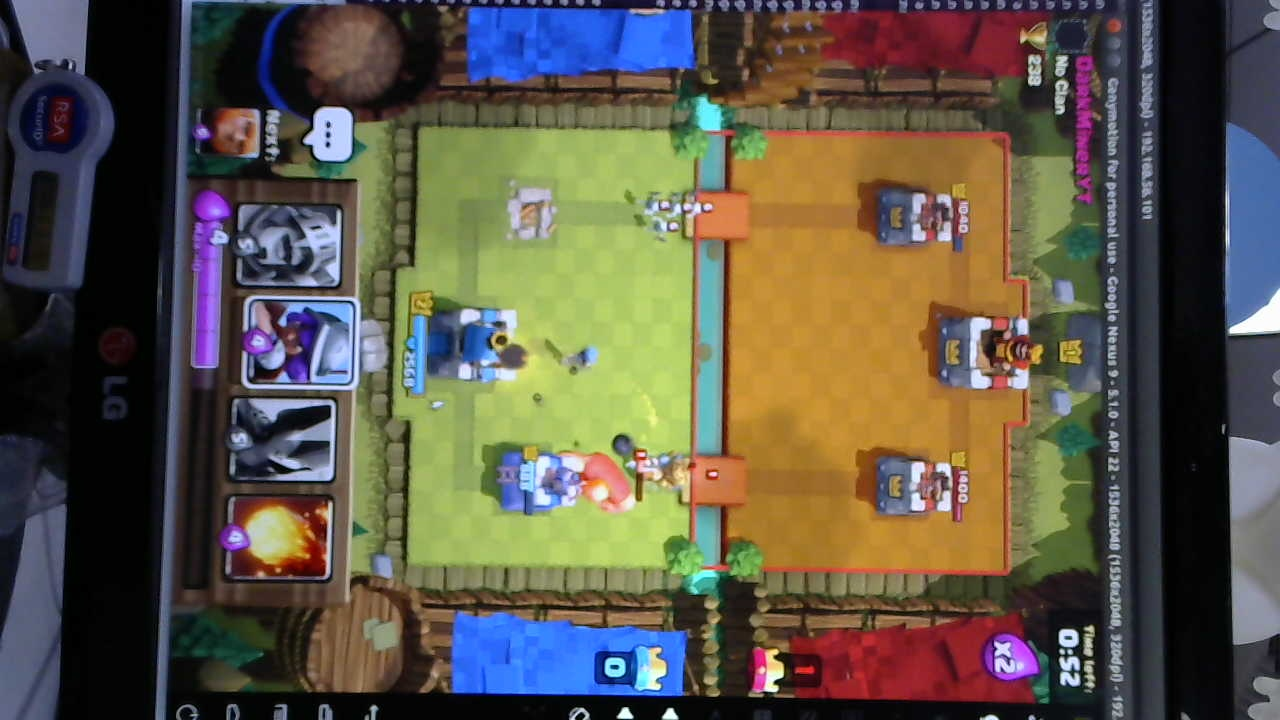arena: (492, 448, 572, 515)
bomb: (561, 339, 600, 378)
darena: (500, 181, 556, 243)
earena: (871, 454, 952, 521), (869, 187, 952, 251)
eking: (939, 318, 1036, 394)
giant: (553, 442, 638, 517)
king: (421, 305, 516, 390)
prince: (628, 446, 696, 492)
skeleton: (647, 194, 704, 236)
